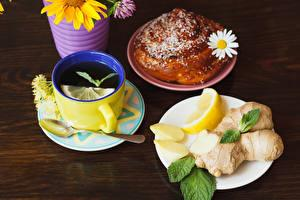chamomile: (211, 34, 236, 57)
